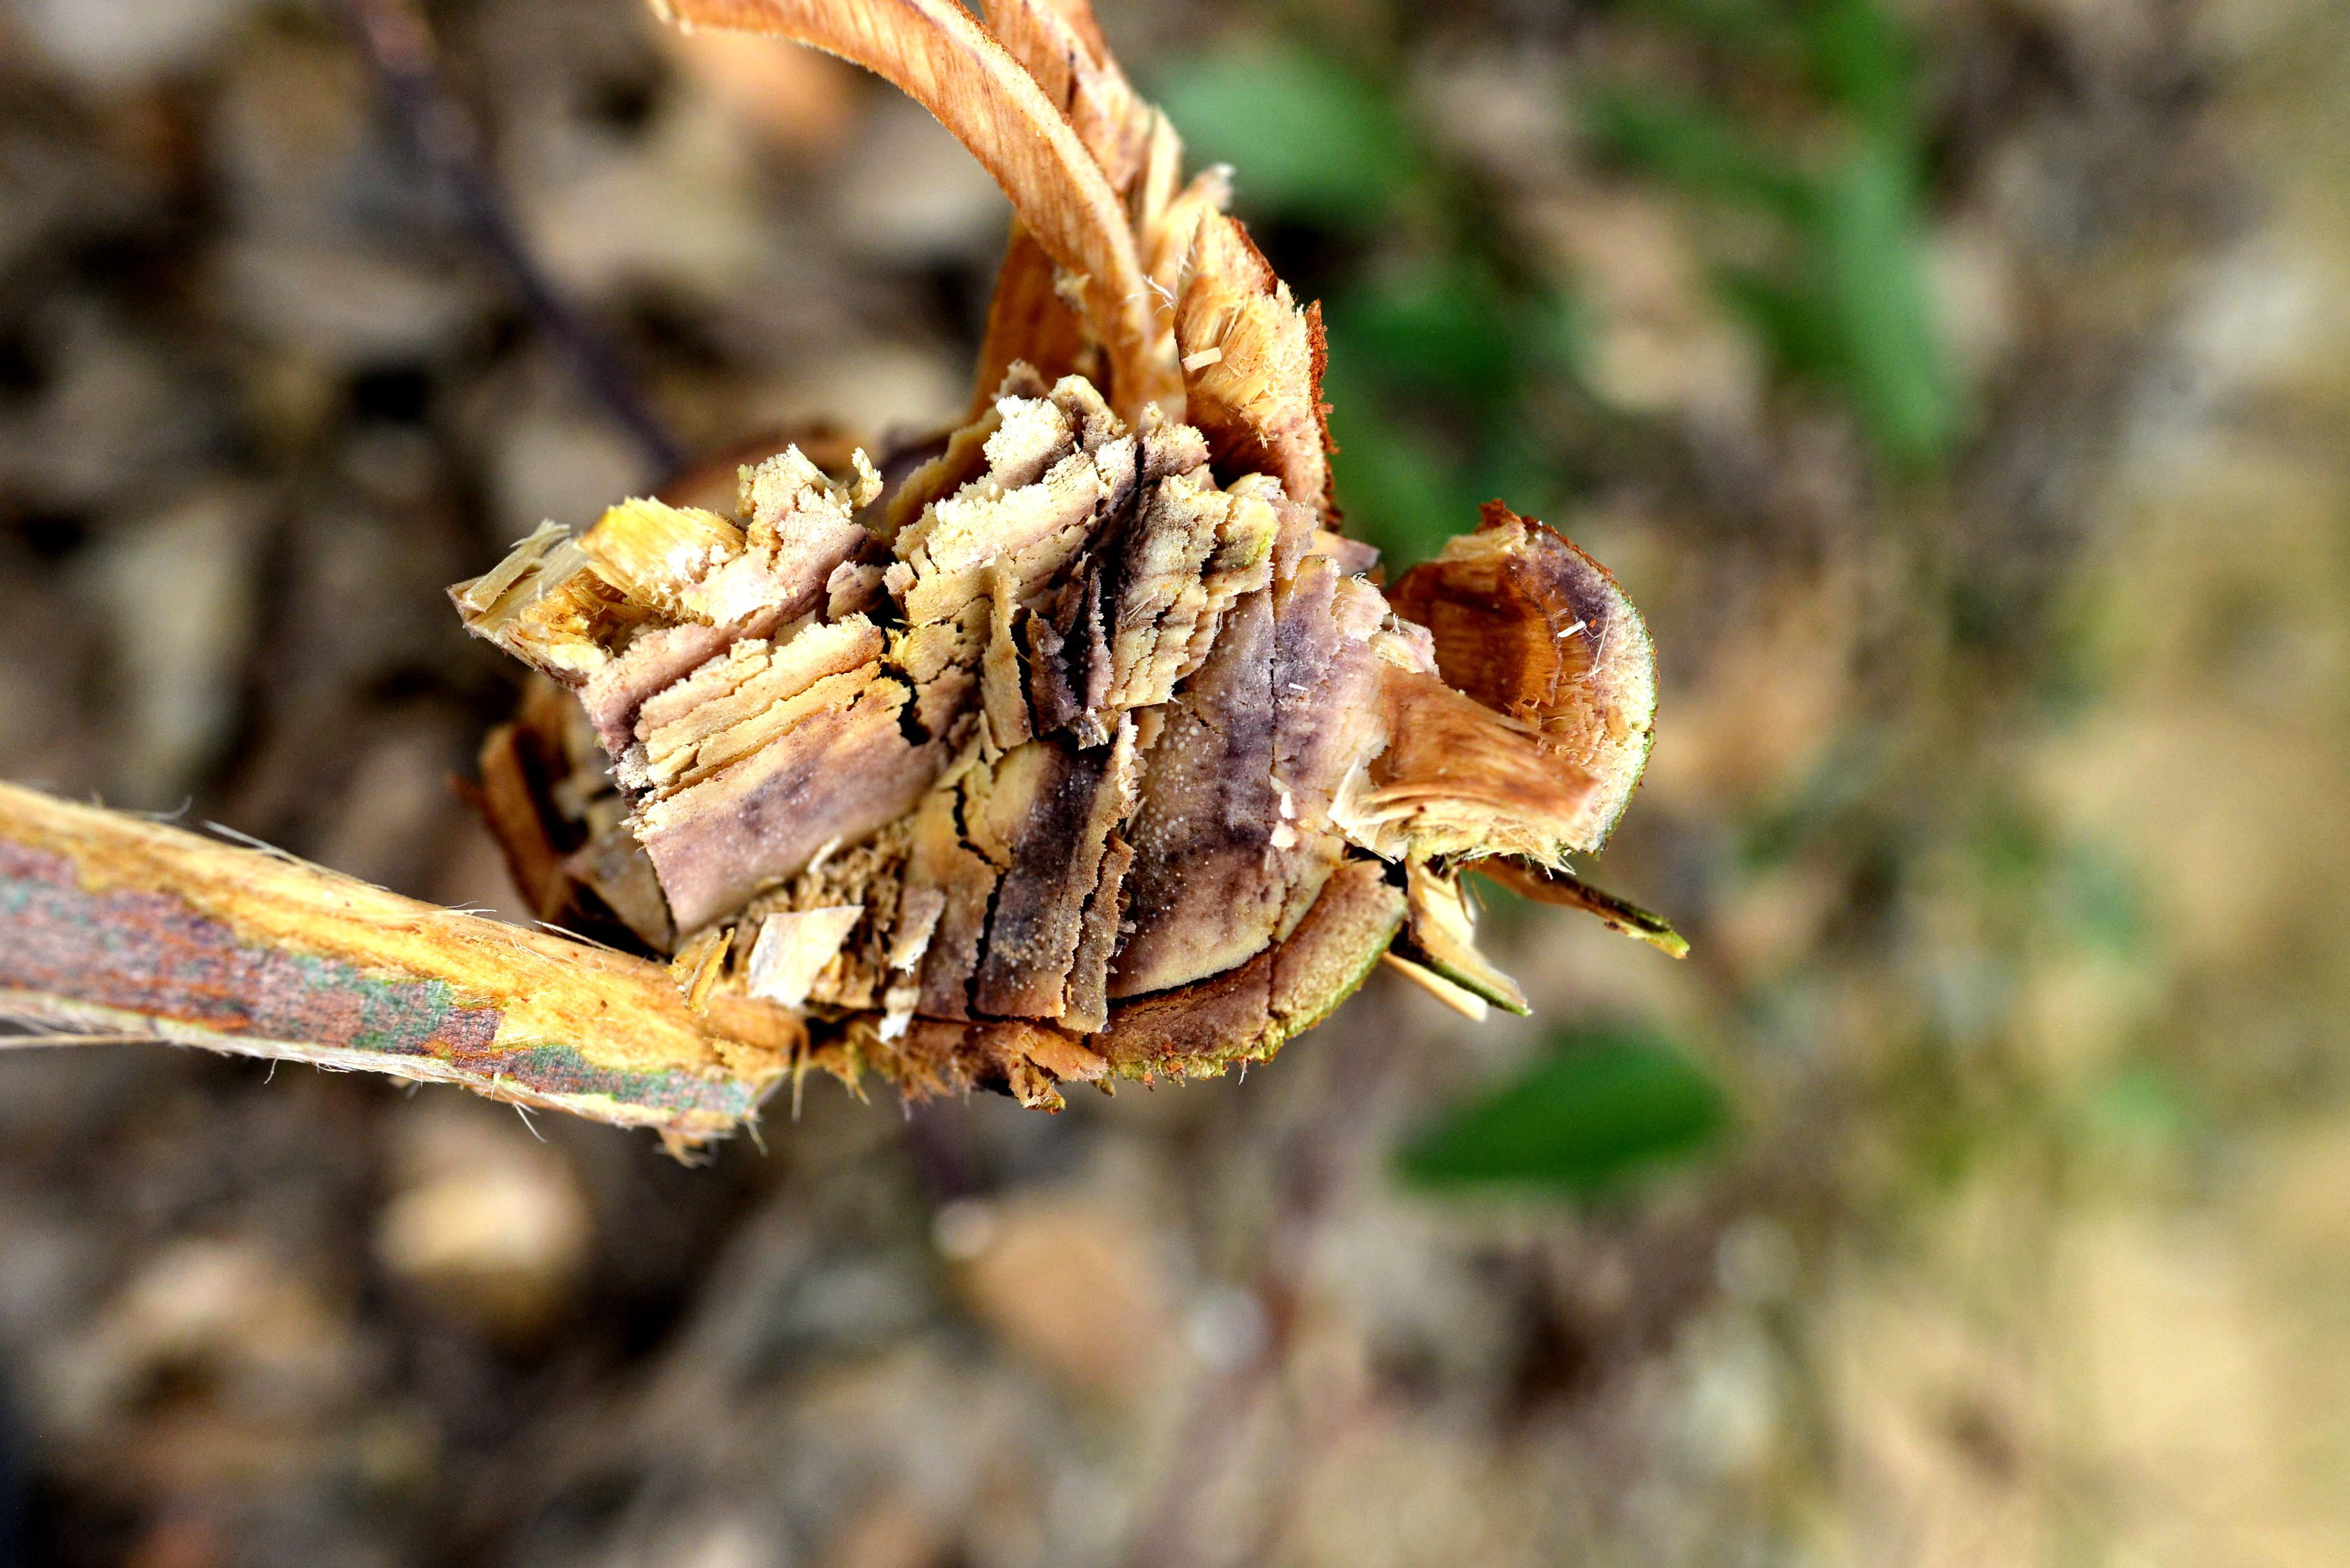Ralstonia: (950, 686, 1225, 997), (653, 744, 831, 906)
